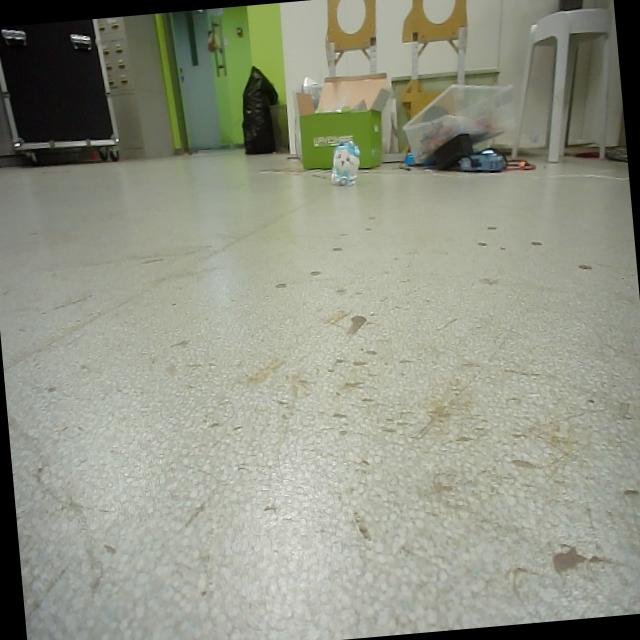xiaoba: (326, 139, 364, 188)
